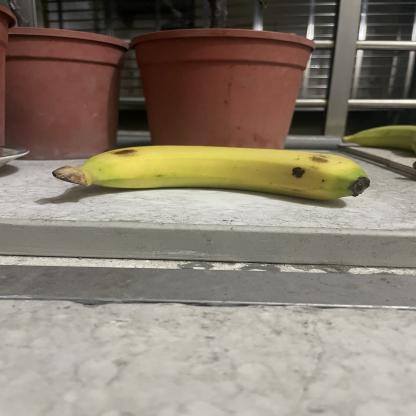banana: (48, 140, 372, 206)
